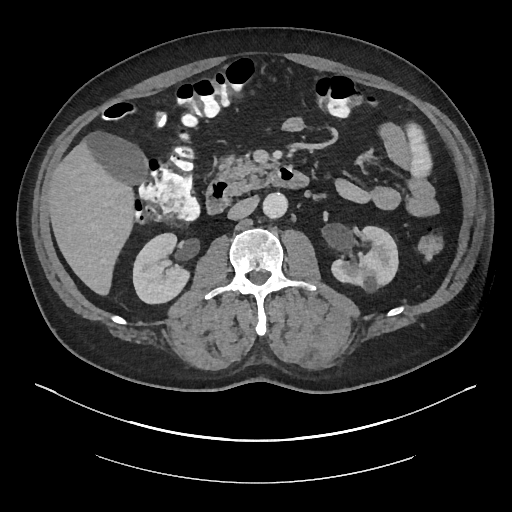Lesion: (362, 273, 380, 294)
